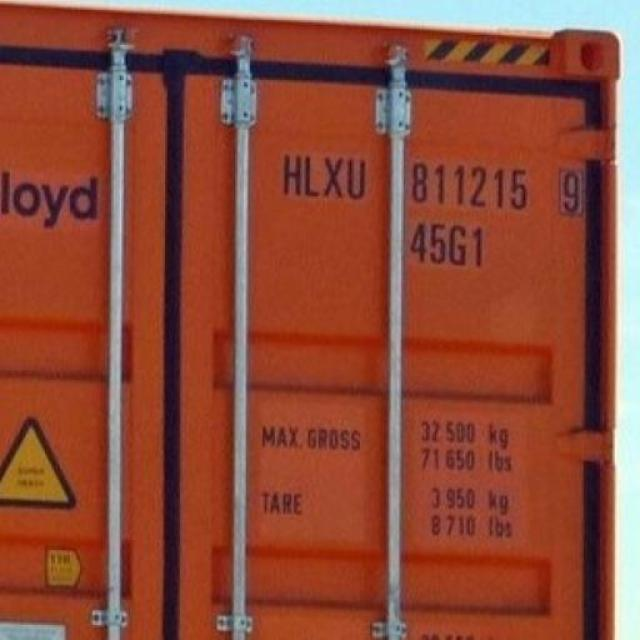ISO: (404, 224, 498, 276)
container_number: (278, 147, 588, 215)
